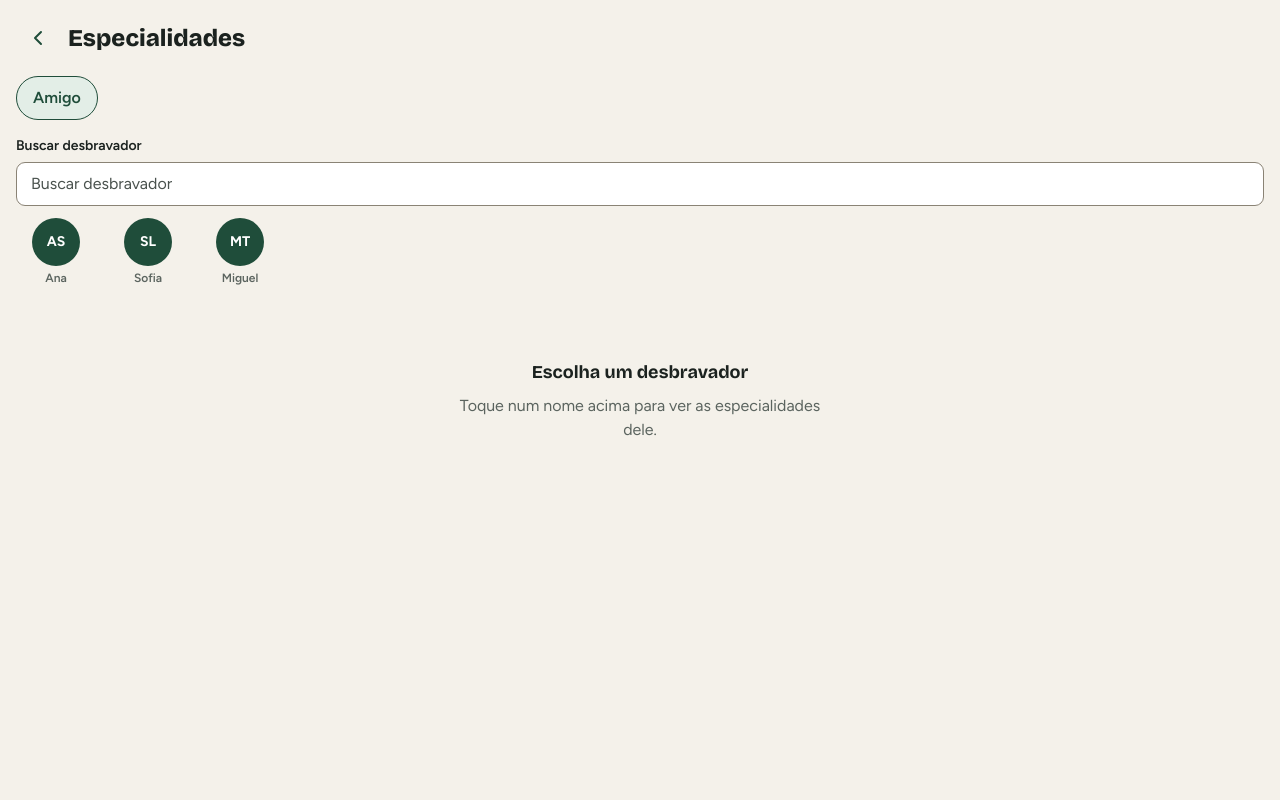
Especialidades › escolher um desbravador leva ao dele e mostra quem marcou e quando
Click the button with aria-label "Ana Clara Souza" at coordinates (56, 252), box x1=16 y1=214 x2=96 y2=290
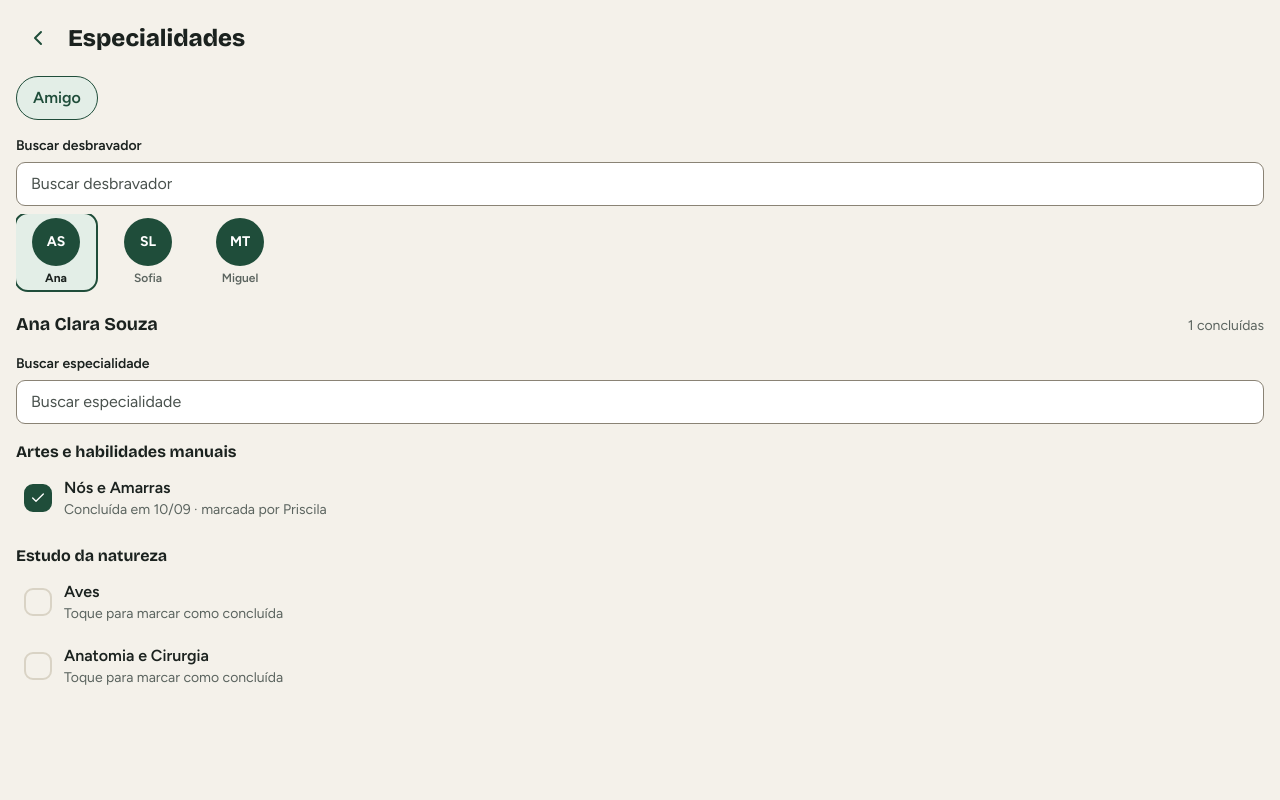
Expected: the text "Concluída em 10/09 · marcada por Priscila" is shown, x1=64 y1=500 x2=327 y2=520
Expected: the text "1 concluídas" is shown, x1=1188 y1=316 x2=1264 y2=336
Expected: the heading "Artes e habilidades manuais" is shown, x1=16 y1=442 x2=236 y2=461
